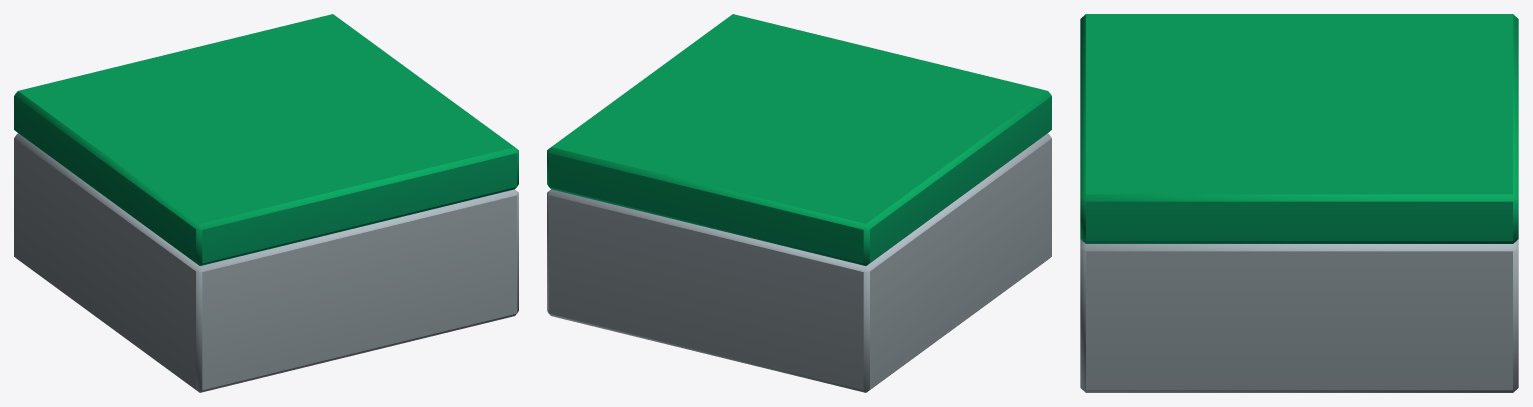
Rendered from platform_4x4x2_green.glb.
3 views of the same model, side by side, from view 1: azimuth 30°, elevation 25°; view 2: azimuth 150°, elevation 25°; view 3: azimuth 270°, elevation 25° (orthographic). The views are drawn at different scales.
Visible parts, largest first — view 1: platform_4x4x2_green; view 2: platform_4x4x2_green; view 3: platform_4x4x2_green.
Part boxes in pixels (x1,y1,x2,y2): platform_4x4x2_green: (14,14,518,392); platform_4x4x2_green: (547,14,1051,392); platform_4x4x2_green: (1080,14,1518,392).
Size of the model in its own units: 4 by 2 by 4.
Materials: 1 (1 with a texture image).
